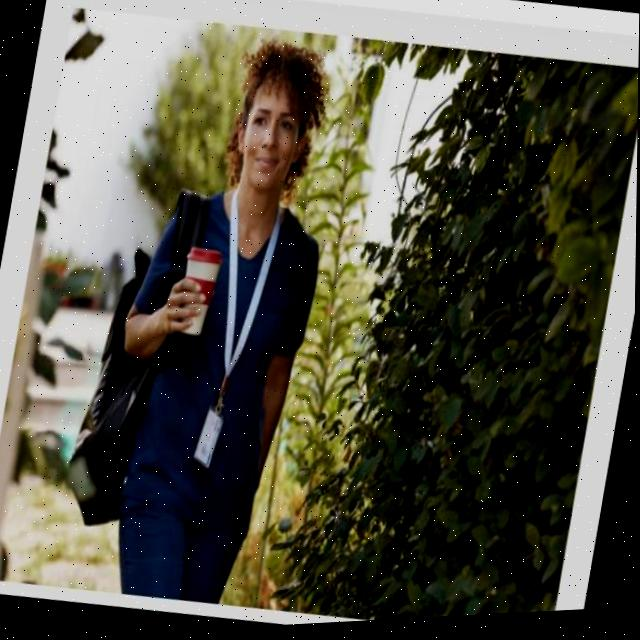id_card: (181, 191, 290, 478)
